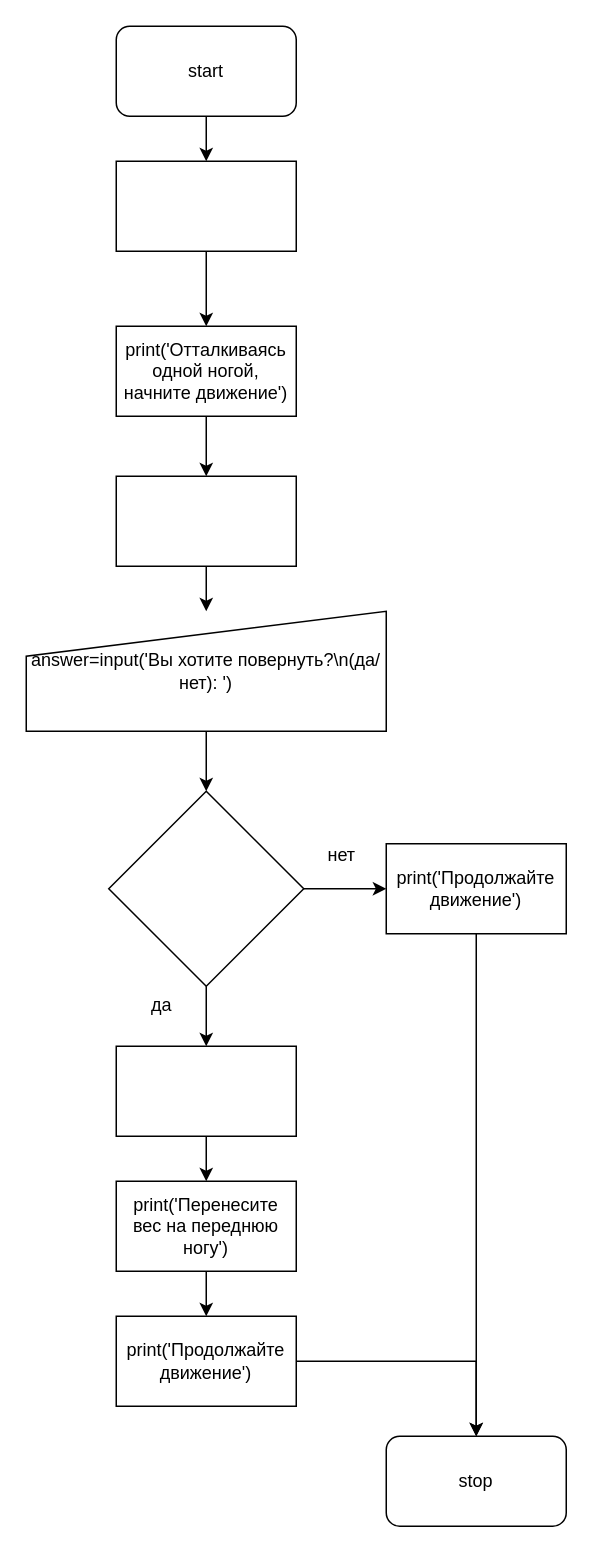
Image size: 593x1553. Some labels were removed from this diagram. Each missing label, with the centre of its shape:
if answer == 'да': else:: pixel 205 888
print('Встаньте на скейт'): pixel 205 205
print('Наклоните тело в нужную сторону'): pixel 205 1090
print('Поднимете вторую ногу'): pixel 205 520
